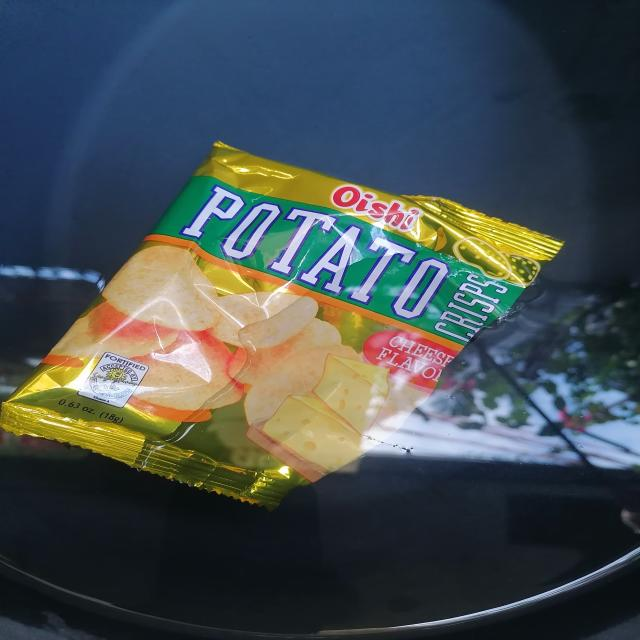Plastic Wrapper: (0, 141, 561, 509)
